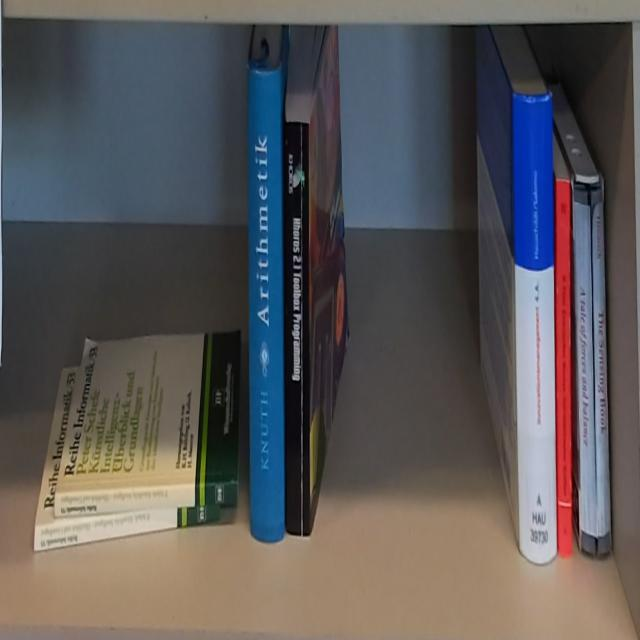Book Spine: (512, 85, 557, 568), (250, 64, 284, 548), (284, 121, 311, 534), (571, 187, 597, 557), (589, 180, 613, 555), (32, 507, 221, 554), (56, 480, 237, 517), (556, 180, 573, 555)
